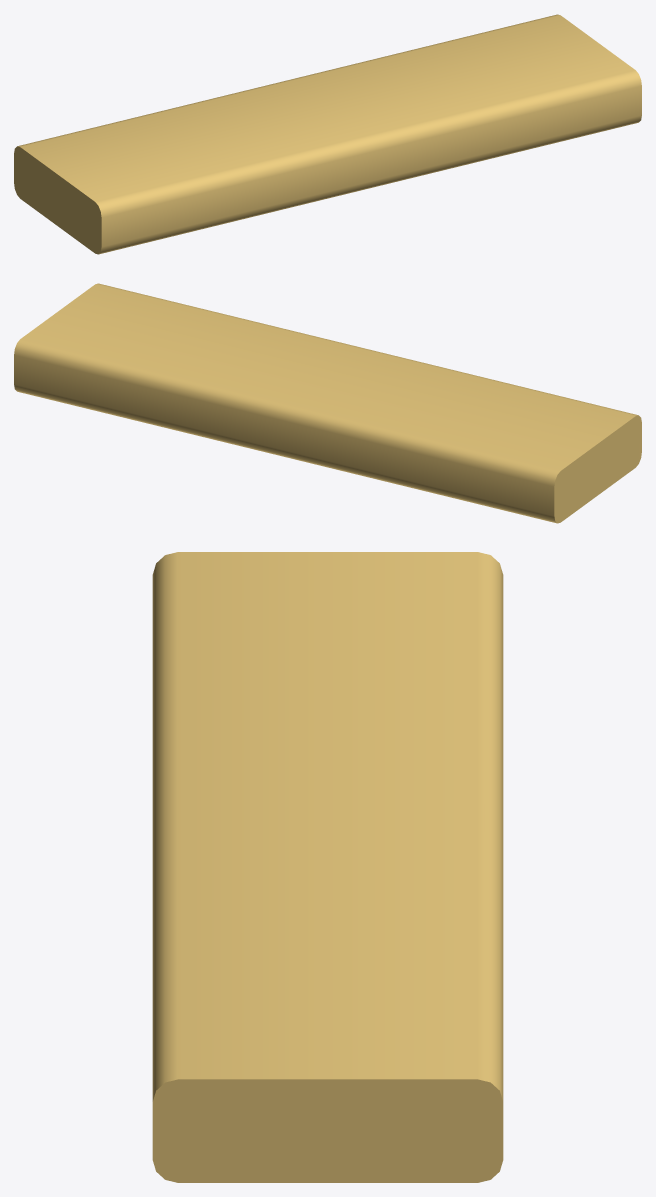
The model's file is Timber.fbx.
The picture shows the model from 3 angles, top to bottom: view 1: azimuth 30°, elevation 25°; view 2: azimuth 150°, elevation 25°; view 3: azimuth 270°, elevation 25°; orthographic projection. The views are drawn at different scales.
Parts seen in each view (by area): view 1: Timber1x; view 2: Timber1x; view 3: Timber1x.
Part boxes in pixels (x1=…): Timber1x: x1=14, y1=14, x2=641, y2=254; Timber1x: x1=14, y1=283, x2=641, y2=523; Timber1x: x1=152, y1=552, x2=503, y2=1182.
Bounding box in the file's own units: 100 × 9.14 × 28.08.
